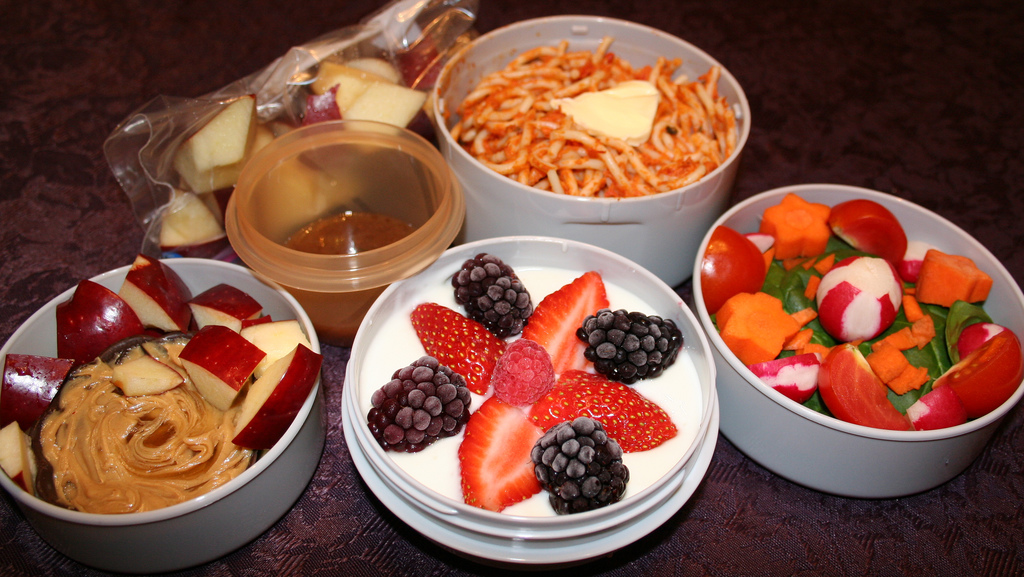plain spaghetti: (493, 70, 555, 159)
